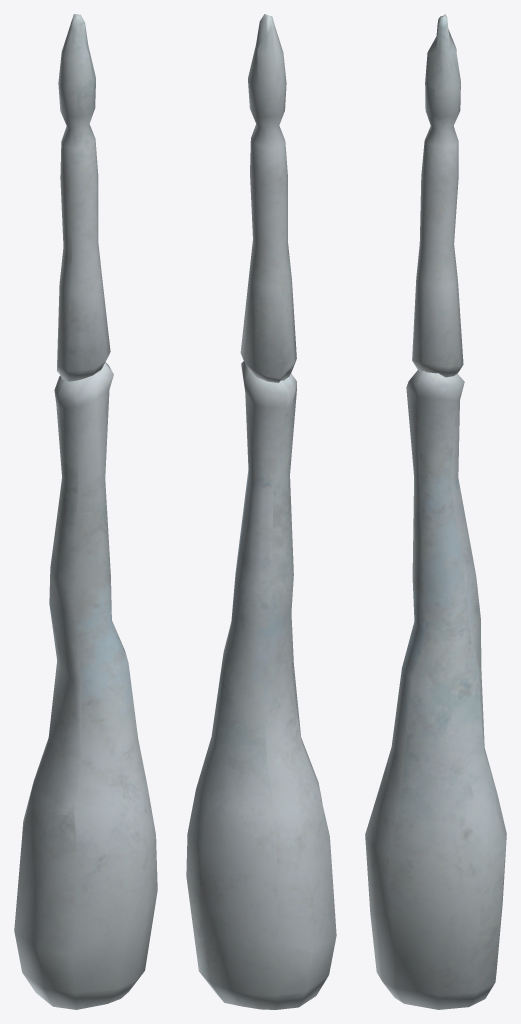
Rendered from P_RockDesert_Hoodoo08.obj.
The picture shows the model from 3 angles, left to right: view 1: azimuth 30°, elevation 25°; view 2: azimuth 150°, elevation 25°; view 3: azimuth 270°, elevation 25°; orthographic projection.
Bounding box in the file's own units: 3.25 × 24.76 × 3.24.
